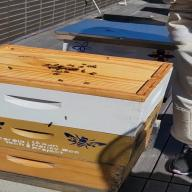Bee: (75, 60, 102, 72), (76, 80, 100, 86), (54, 76, 67, 86)
